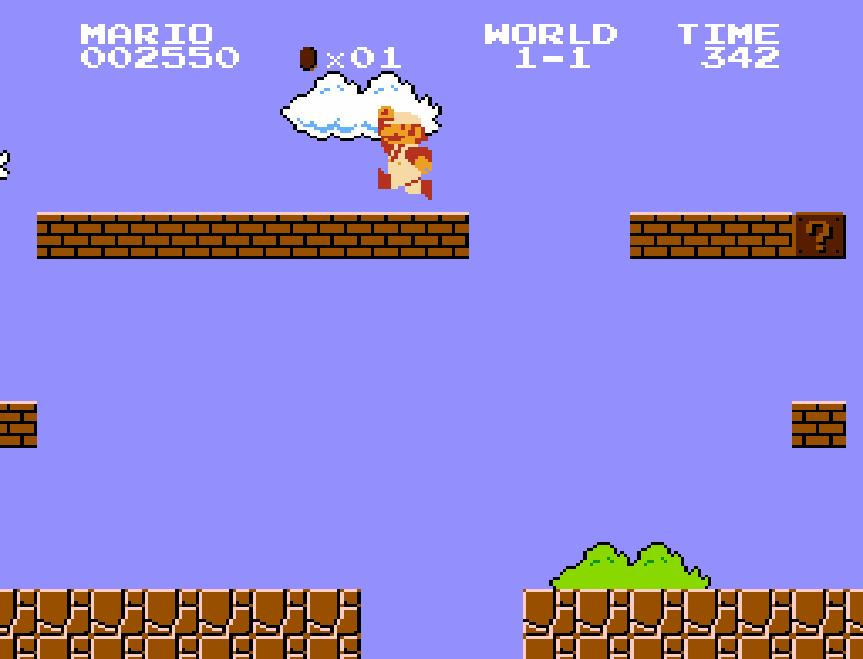fire_mario: (376, 103, 434, 201)
